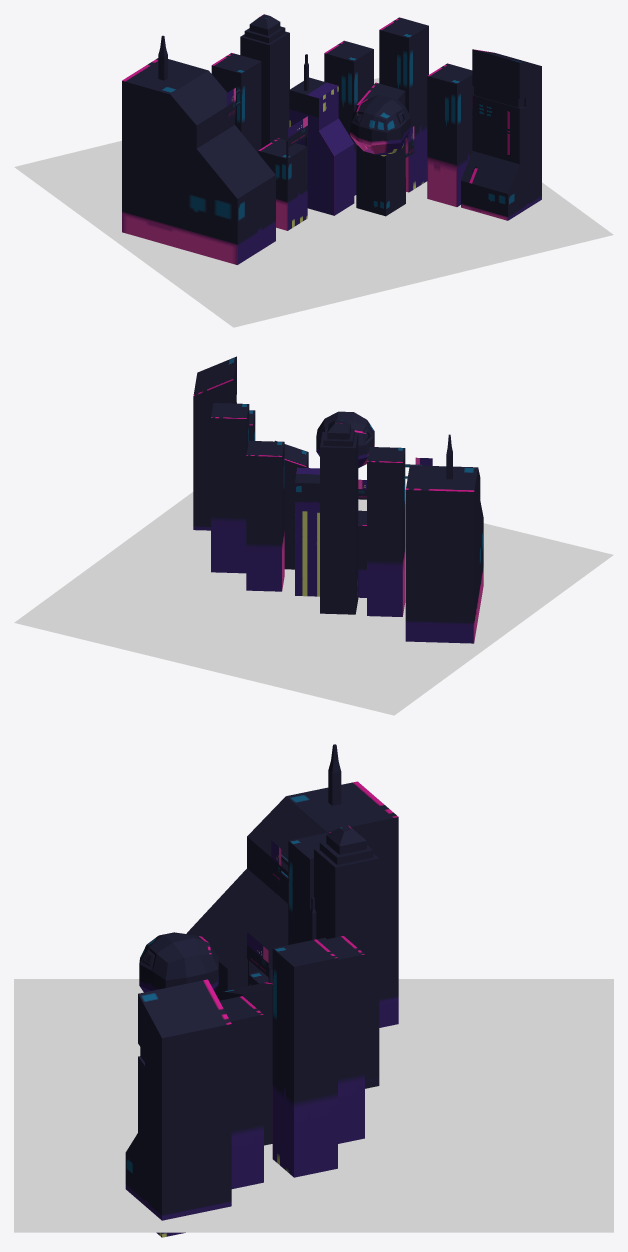
Rendered from teees.glb.
The picture shows the model from 3 angles, top to bottom: view 1: azimuth 30°, elevation 25°; view 2: azimuth 150°, elevation 25°; view 3: azimuth 270°, elevation 25°; orthographic projection. The views are drawn at different scales.
Visible parts, largest first — view 1: Cube, Plane; view 2: Cube, Plane; view 3: Plane, Cube.
Boxes of the visible parts, left/top/right/bottom form: Cube: left=122, top=14, right=541, bottom=264; Plane: left=14, top=78, right=613, bottom=327; Cube: left=193, top=356, right=483, bottom=643; Plane: left=14, top=492, right=613, bottom=715; Plane: left=14, top=979, right=613, bottom=1232; Cube: left=125, top=744, right=398, bottom=1237.
Bounding box in the file's own units: 24.56 × 12.99 × 24.56.
2 materials, 1 textured.
